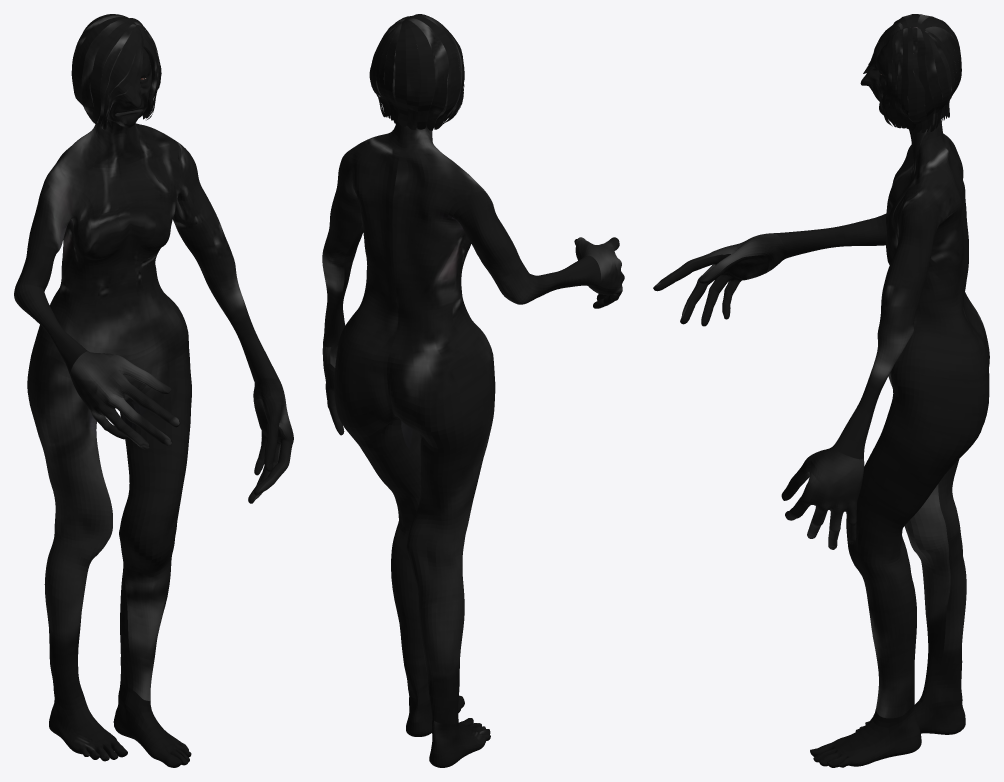
File: witchalso.fbx
3 renders of one model, left to right at view 1: azimuth 30°, elevation 25°; view 2: azimuth 150°, elevation 25°; view 3: azimuth 270°, elevation 25°, orthographic. The views are drawn at different scales.
Visible parts, largest first — view 1: base.obj.sub, bob02.obj.sub; view 2: base.obj.sub, bob02.obj.sub; view 3: base.obj.sub, bob02.obj.sub.
Boxes of the visible parts, x1=… form: base.obj.sub: x1=14, y1=48, x2=293, y2=767; bob02.obj.sub: x1=71, y1=14, x2=161, y2=129; base.obj.sub: x1=322, y1=122, x2=624, y2=767; bob02.obj.sub: x1=369, y1=14, x2=464, y2=130; base.obj.sub: x1=653, y1=46, x2=989, y2=767; bob02.obj.sub: x1=863, y1=14, x2=961, y2=132.
Size of the model in its own units: 39.04 by 111 by 45.97.
